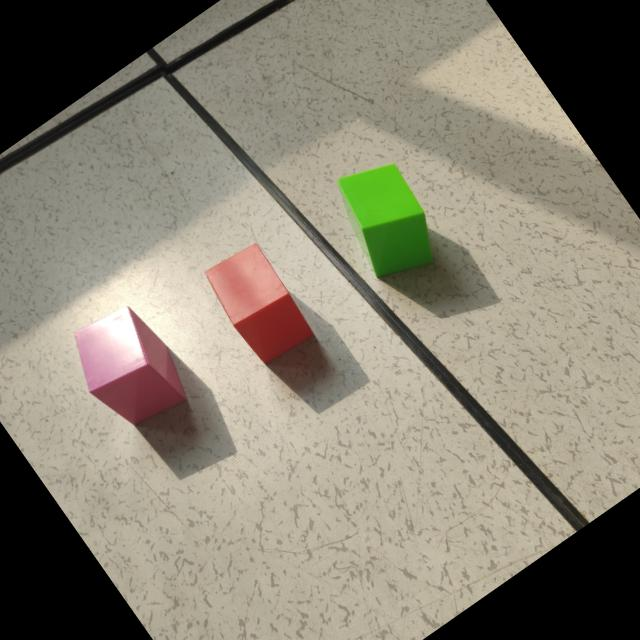green: (338, 165, 434, 280)
pink: (76, 307, 189, 428)
red: (206, 243, 315, 364)
